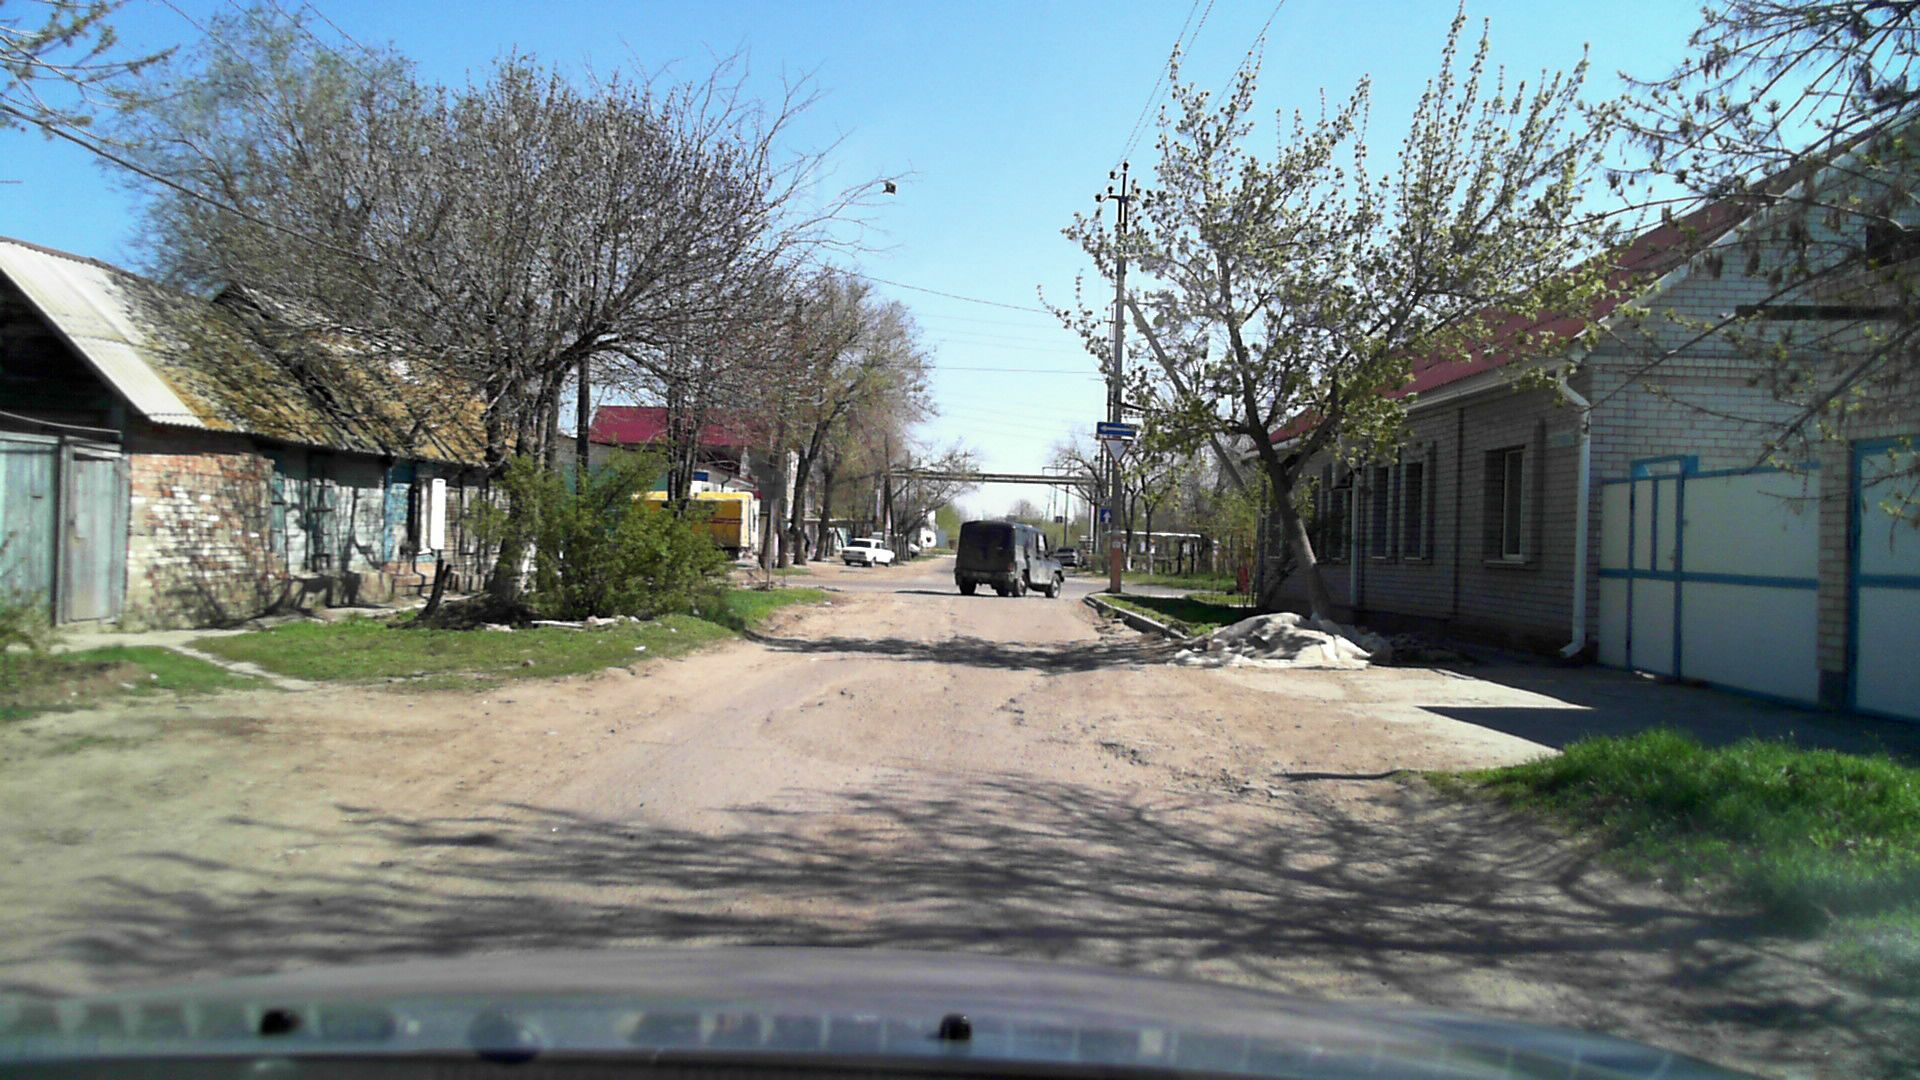One-Way Traffic: (1096, 422, 1138, 436)
